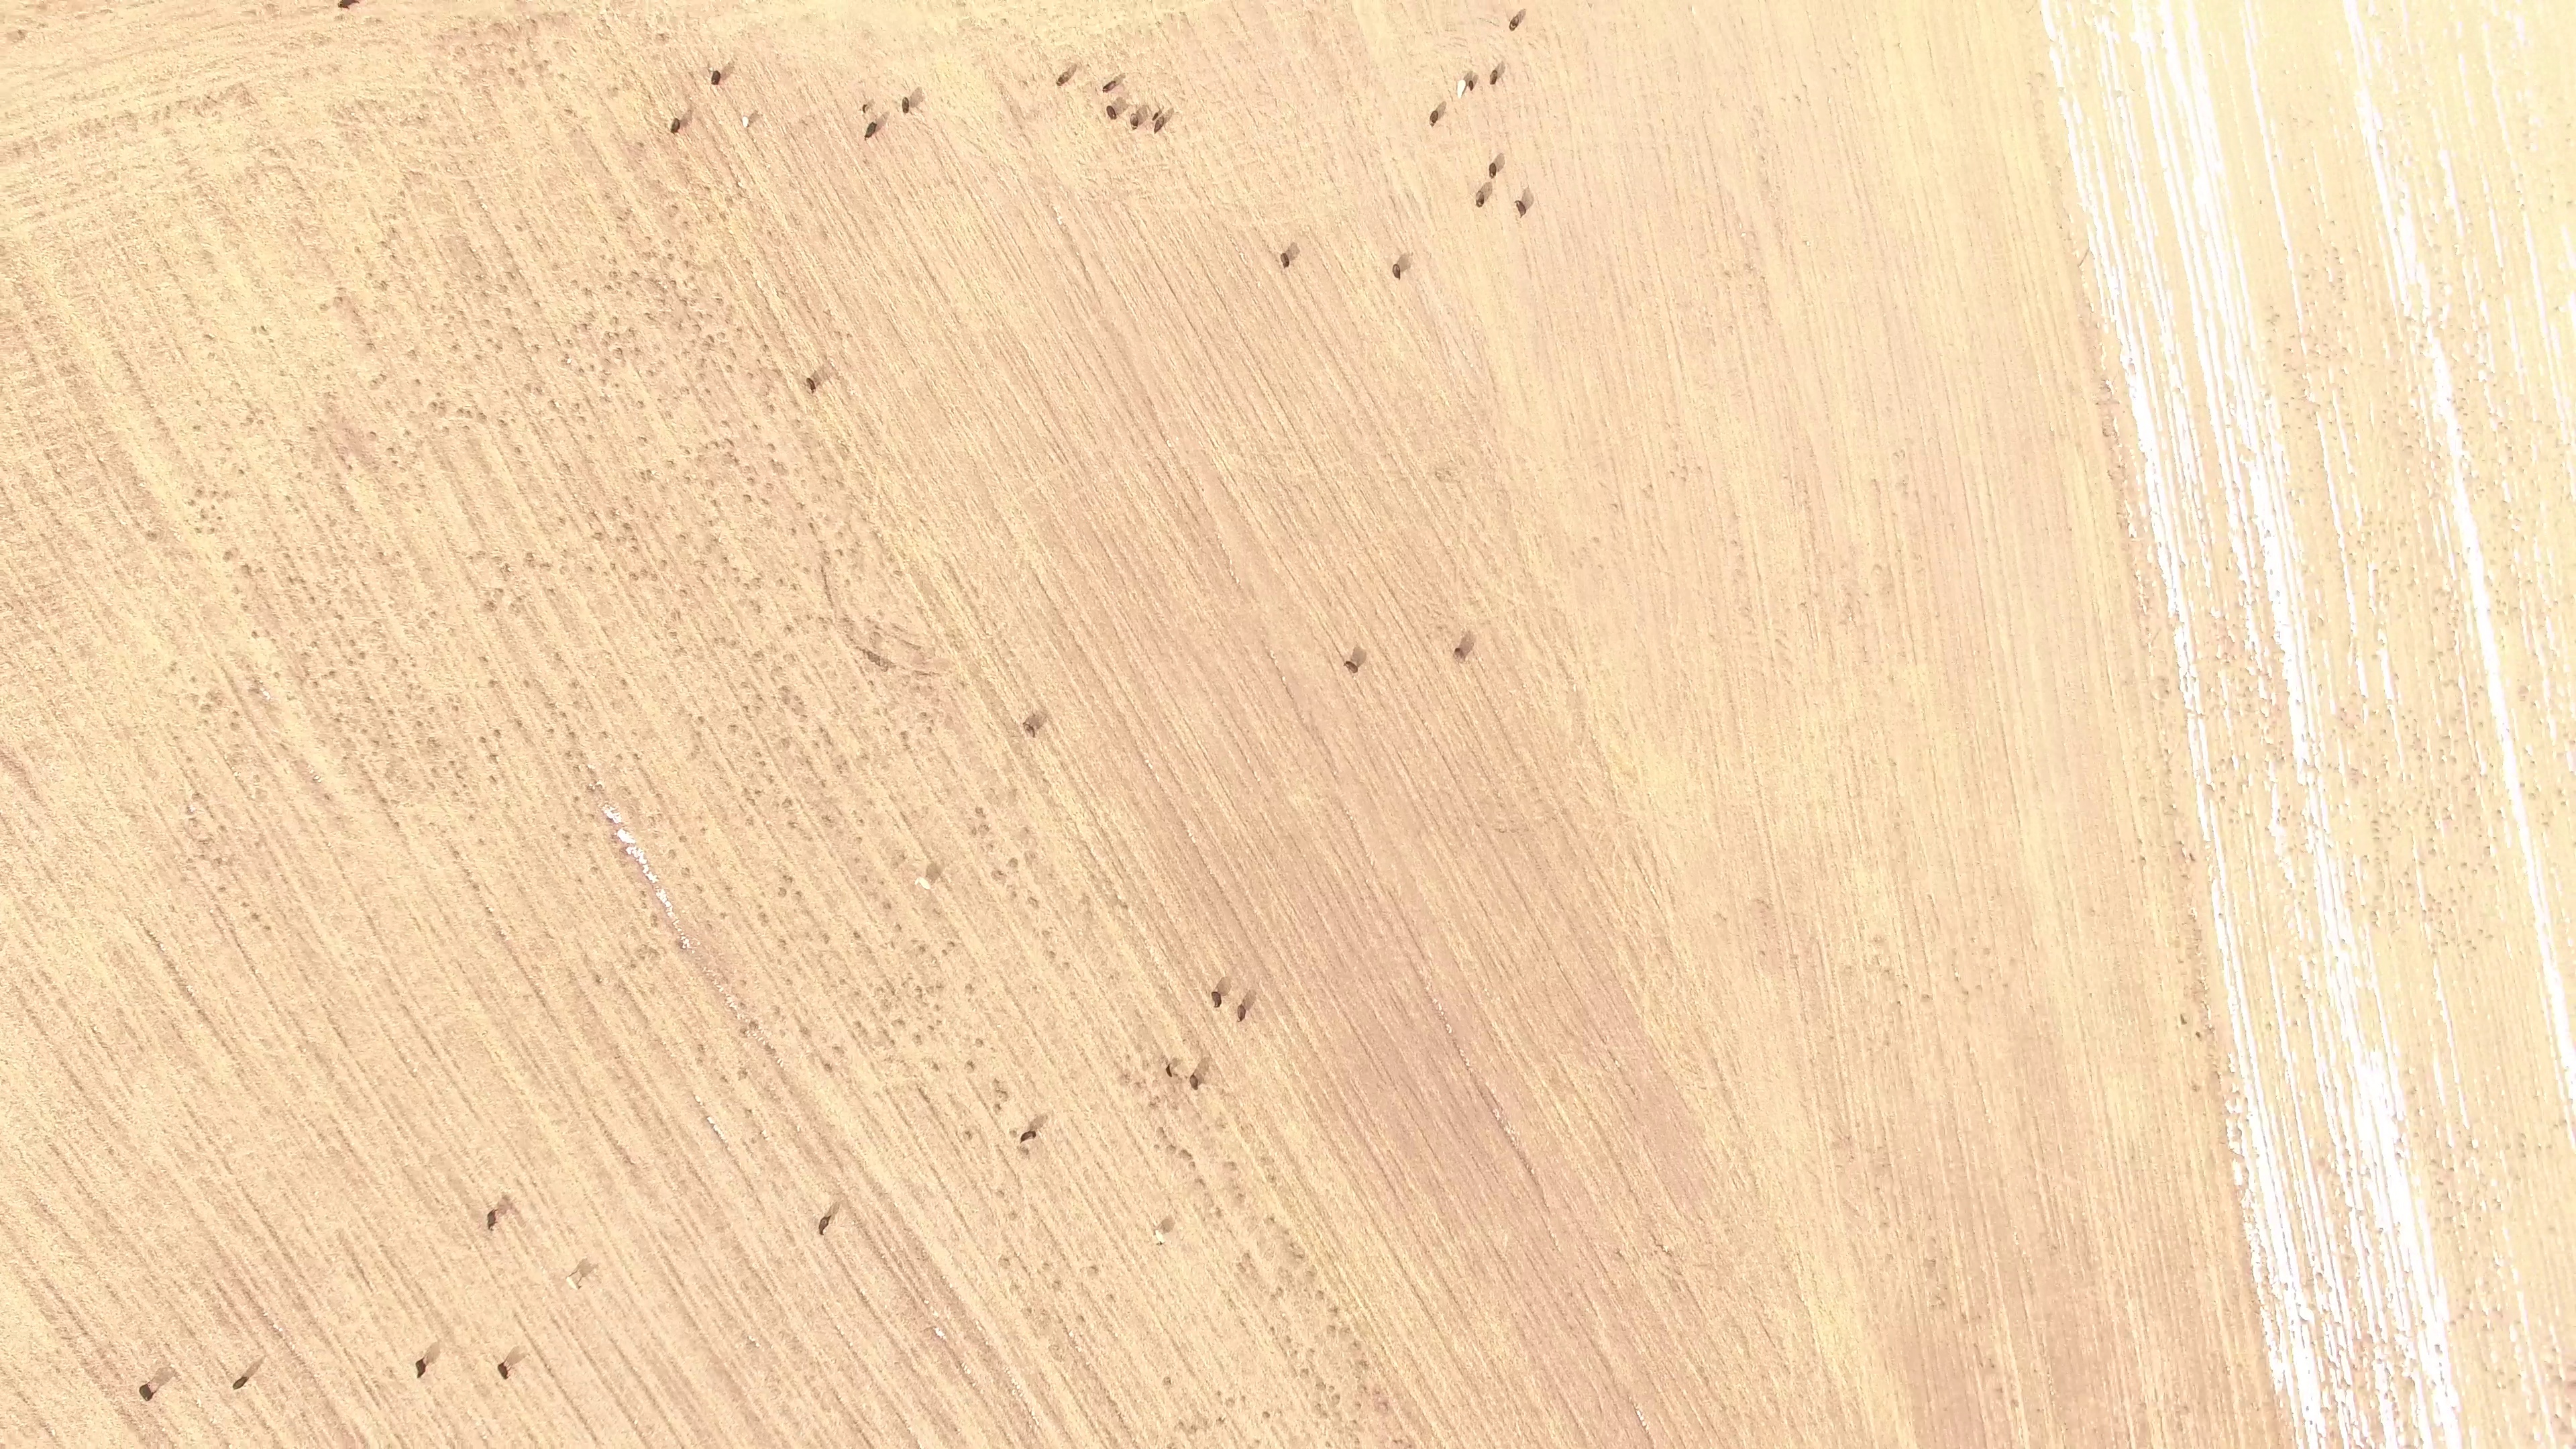sheep: (136, 1381, 157, 1405), (413, 1355, 431, 1381), (815, 1212, 836, 1238), (912, 873, 936, 894), (1020, 718, 1040, 741), (563, 1270, 585, 1291), (494, 1358, 514, 1383), (484, 1207, 502, 1231), (1053, 68, 1073, 89), (229, 1373, 253, 1393), (1513, 196, 1532, 219), (1470, 189, 1490, 212), (1017, 1128, 1042, 1145), (1150, 1227, 1169, 1247), (1507, 12, 1526, 34), (1186, 1071, 1203, 1093), (1234, 1002, 1251, 1024), (861, 119, 880, 142), (1099, 78, 1121, 96), (1426, 106, 1442, 130), (1452, 76, 1469, 101), (1340, 657, 1361, 676), (803, 375, 820, 396), (667, 115, 685, 136), (1486, 68, 1503, 89), (898, 93, 915, 117), (1152, 115, 1169, 135), (1103, 104, 1122, 123), (1208, 989, 1224, 1011), (1451, 645, 1471, 662), (1277, 250, 1293, 271), (708, 68, 724, 89), (1389, 262, 1405, 282), (1486, 161, 1501, 181), (1127, 111, 1142, 131), (1161, 1063, 1179, 1080), (857, 101, 871, 119), (336, 1, 362, 11), (739, 112, 753, 129), (1466, 77, 1478, 93), (1150, 110, 1161, 121)
unknown: (923, 860, 945, 885), (574, 1260, 596, 1281), (614, 826, 636, 846), (153, 1369, 172, 1389), (863, 647, 883, 665), (761, 1042, 779, 1058), (604, 807, 616, 826), (917, 1088, 931, 1104), (15, 27, 28, 42), (821, 1061, 835, 1074), (965, 1059, 978, 1072), (221, 549, 235, 563), (1018, 1144, 1032, 1158), (962, 1128, 975, 1142), (2316, 1156, 2328, 1169), (1177, 1146, 1191, 1159), (1166, 1142, 1179, 1154), (737, 1025, 750, 1037), (673, 938, 686, 949), (851, 928, 863, 942), (249, 910, 262, 923), (1008, 856, 1021, 870), (249, 685, 263, 697), (620, 520, 633, 533), (1260, 1408, 1273, 1421), (2193, 1029, 2204, 1042), (746, 1018, 759, 1030), (916, 943, 928, 955), (645, 871, 659, 883), (377, 795, 389, 806), (695, 713, 707, 725), (779, 683, 792, 696), (618, 676, 630, 688), (333, 611, 345, 623), (241, 561, 254, 574), (186, 498, 198, 509), (244, 415, 256, 426), (1170, 1055, 1181, 1069), (147, 530, 160, 542), (1299, 1366, 1311, 1377), (934, 1328, 946, 1339), (1330, 1305, 1341, 1316), (2304, 1280, 2315, 1290), (2443, 1214, 2455, 1224), (1213, 1207, 1224, 1220), (1156, 1124, 1167, 1136), (991, 1100, 1003, 1111), (739, 1067, 749, 1077), (930, 1061, 941, 1073), (913, 1032, 924, 1043), (800, 1027, 812, 1038), (2206, 1024, 2216, 1037), (895, 1016, 906, 1027), (2178, 1015, 2189, 1028), (164, 958, 175, 969), (777, 885, 789, 896), (470, 881, 482, 892), (214, 855, 225, 867), (449, 848, 462, 859), (676, 833, 689, 844), (477, 734, 489, 746), (568, 729, 578, 741), (780, 694, 791, 706), (521, 678, 532, 690), (356, 649, 368, 661), (486, 598, 497, 610), (523, 549, 535, 561), (195, 487, 205, 498), (307, 424, 319, 435), (191, 423, 203, 433), (455, 406, 466, 416), (11, 145, 22, 155), (505, 65, 518, 76), (37, 2, 49, 13), (2404, 1441, 2418, 1449), (2392, 1408, 2402, 1418), (1106, 1397, 1116, 1407), (2328, 1393, 2339, 1403), (1332, 1391, 1343, 1402), (1214, 1389, 1224, 1399), (14, 1389, 24, 1399), (2405, 1376, 2416, 1388), (2322, 1364, 2332, 1375), (2348, 1362, 2358, 1373), (1283, 1335, 1294, 1346), (2363, 1331, 2375, 1342), (2457, 1311, 2467, 1322), (858, 1293, 868, 1303), (1316, 1289, 1326, 1299), (2314, 1269, 2324, 1279), (356, 1266, 366, 1276), (1235, 1260, 1245, 1270), (1267, 1214, 1277, 1224), (2433, 1178, 2443, 1188), (1269, 1175, 1279, 1185), (2343, 1169, 2354, 1180), (2447, 1165, 2457, 1175), (1228, 1159, 1238, 1170), (2342, 1147, 2353, 1158), (1009, 1128, 1020, 1138), (718, 1072, 729, 1083), (880, 1028, 890, 1038), (195, 1006, 205, 1017), (888, 986, 898, 997), (179, 984, 189, 995), (627, 961, 639, 971), (883, 900, 894, 910), (780, 872, 790, 882), (641, 864, 651, 874), (637, 855, 647, 865), (197, 851, 207, 861), (619, 844, 629, 855), (217, 823, 227, 833), (391, 819, 402, 829), (613, 814, 624, 824), (784, 796, 794, 806), (572, 794, 582, 804), (2217, 793, 2228, 803), (752, 788, 762, 798), (2217, 779, 2228, 789), (309, 775, 319, 786), (184, 754, 194, 764), (487, 751, 497, 761), (515, 720, 525, 731), (228, 720, 239, 730), (414, 718, 425, 729), (559, 710, 569, 720), (230, 708, 241, 719), (486, 678, 497, 688), (326, 668, 337, 679), (676, 645, 686, 655), (839, 614, 850, 625), (496, 586, 506, 596), (821, 582, 831, 592), (286, 576, 297, 586), (478, 412, 489, 423), (250, 325, 260, 335), (580, 321, 590, 331), (336, 294, 346, 304), (397, 188, 407, 198), (268, 146, 278, 156), (637, 140, 647, 151), (564, 107, 576, 117), (1167, 106, 1177, 116), (492, 19, 502, 30), (2567, 1378, 2576, 1391), (1328, 1322, 1338, 1334), (898, 729, 909, 739), (1380, 1399, 1391, 1409), (1161, 1378, 1171, 1388), (2338, 1376, 2349, 1386), (1356, 1358, 1366, 1368), (1056, 1316, 1066, 1326), (2462, 1303, 2472, 1313), (1054, 1277, 1064, 1288), (1196, 1176, 1206, 1186), (1524, 1165, 1534, 1175), (1188, 1159, 1198, 1169), (707, 1120, 717, 1130), (1149, 1100, 1159, 1110), (998, 1087, 1009, 1097), (1133, 1079, 1143, 1089), (72, 1078, 82, 1088), (313, 1050, 323, 1061), (831, 1043, 842, 1053), (200, 1013, 210, 1023), (184, 990, 195, 1000), (965, 982, 975, 992), (592, 976, 603, 986), (143, 927, 153, 937), (663, 899, 673, 910), (1009, 890, 1019, 900), (794, 888, 804, 898), (2460, 859, 2470, 869), (2494, 807, 2504, 817), (322, 792, 332, 802), (834, 762, 845, 772), (431, 741, 442, 751), (778, 735, 790, 745), (332, 715, 342, 725), (386, 707, 396, 717), (824, 591, 834, 601), (712, 535, 722, 545), (806, 521, 816, 531), (585, 432, 595, 442), (2100, 382, 2111, 392), (413, 376, 423, 386), (203, 331, 213, 341), (505, 269, 515, 279), (682, 258, 692, 268), (517, 77, 527, 87), (1217, 1417, 1227, 1427), (1089, 1263, 1099, 1273), (2200, 987, 2210, 997), (148, 934, 158, 944), (263, 923, 273, 933), (210, 693, 220, 703), (2243, 684, 2253, 694), (569, 679, 579, 689), (251, 677, 261, 687), (479, 654, 489, 664), (785, 624, 795, 634), (376, 549, 386, 559), (604, 282, 614, 292)
